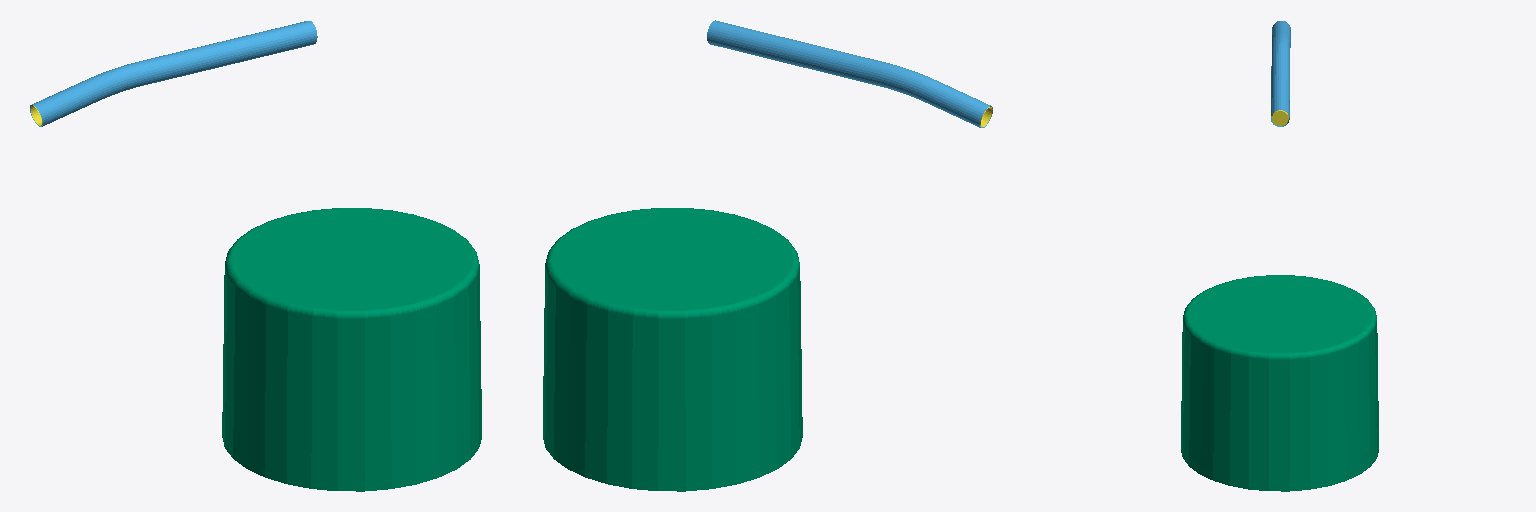
The robot description file, URDF, robot "partnet_2a9b20d21e27ab0026cca18be86a1458":
<?xml version="1.0" ?>
<robot name="partnet_2a9b20d21e27ab0026cca18be86a1458">
	<link name="base"/>
	<link name="link_0">
		<visual name="handle-1">
			<origin xyz="-0.012046458269879601 -0.17090436685072608 -0.016429255220829652"/>
			<geometry>
				<mesh filename="textured_objs/original-12.obj" scale="0.2 0.2 0.2"/>
			</geometry>
		</visual>
		<collision>
			<origin xyz="-0.012046458269879601 -0.17090436685072608 -0.016429255220829652"/>
			<geometry>
				<mesh filename="textured_objs/original-12.obj" scale="0.2 0.2 0.2"/>
			</geometry>
		</collision>
	</link>
	<joint name="joint_0" type="revolute">
		<origin xyz="0.011876358269879602 0.17090436685072608 0.017302555220829652"/>
		<axis xyz="1 0 0"/>
		<child link="link_0"/>
		<parent link="link_2"/>
		<limit lower="0.0" upper="0.5215043804959058" effort="100.0" velocity="1"/>
	</joint>
	<link name="link_1">
		<visual name="base_body-8">
			<origin xyz="0 0 0"/>
			<geometry>
				<mesh filename="textured_objs/original-29.obj" scale="0.2 0.2 0.2"/>
			</geometry>
		</visual>
		...|
		<visual name="base_body-8">
			<origin xyz="0 0 0"/>
			<geometry>
				<mesh filename="textured_objs/original-68.obj" scale="0.2 0.2 0.2"/>
			</geometry>
		</visual>
		<visual name="base_body-8">
			<origin xyz="0 0 0"/>
			<geometry>
				<mesh filename="textured_objs/original-55.obj" scale="0.2 0.2 0.2"/>
			</geometry>
		</visual>
		<visual name="base_body-8">
			<origin xyz="0 0 0"/>
			<geometry>
				<mesh filename="textured_objs/original-50.obj" scale="0.2 0.2 0.2"/>
			</geometry>
		</visual>
		<visual name="base_body-8">
			<origin xyz="0 0 0"/>
			<geometry>
				<mesh filename="textured_objs/original-6.obj" scale="0.2 0.2 0.2"/>
			</geometry>
		</visual>
		<visual name="base_body-8">
			<origin xyz="0 0 0"/>
			<geometry>
				<mesh filename="textured_objs/original-31.obj" scale="0.2 0.2 0.2"/>
			</geometry>
		</visual>
		<visual name="base_body-8">
			<origin xyz="0 0 0"/>
			<geometry>
				<mesh filename="textured_objs/original-37.obj" scale="0.2 0.2 0.2"/>
			</geometry>
		</visual>
		<visual name="base_body-8">
			<origin xyz="0 0 0"/>
			<geometry>
				<mesh filename="textured_objs/original-48.obj" scale="0.2 0.2 0.2"/>
			</geometry>
		</visual>
		<visual name="base_body-8">
			<origin xyz="0 0 0"/>
			<geometry>
				<mesh filename="textured_objs/original-15.obj" scale="0.2 0.2 0.2"/>
			</geometry>
		</visual>
		<visual name="base_body-8">
			<origin xyz="0 0 0"/>
			<geometry>
				<mesh filename="textured_objs/original-56.obj" scale="0.2 0.2 0.2"/>
			</geometry>
		</visual>
		<visual name="base_body-8">
			<origin xyz="0 0 0"/>
			<geometry>
				<mesh filename="textured_objs/original-62.obj" scale="0.2 0.2 0.2"/>
			</geometry>
		</visual>
		<visual name="base_body-8">
			<origin xyz="0 0 0"/>
			<geometry>
				<mesh filename="textured_objs/original-23.obj" scale="0.2 0.2 0.2"/>
			</geometry>
		</visual>
		<visual name="base_body-8">
			<origin xyz="0 0 0"/>
			<geometry>
				<mesh filename="textured_objs/original-66.obj" scale="0.2 0.2 0.2"/>
			</geometry>
		</visual>
		<visual name="base_body-8">
			<origin xyz="0 0 0"/>
			<geometry>
				<mesh filename="textured_objs/original-58.obj" scale="0.2 0.2 0.2"/>
			</geometry>
		</visual>
		<visual name="base_body-8">
			<origin xyz="0 0 0"/>
			<geometry>
				<mesh filename="textured_objs/original-67.obj" scale="0.2 0.2 0.2"/>
			</geometry>
		</visual>
		<visual name="base_body-8">
			<origin xyz="0 0 0"/>
			<geometry>
				<mesh filename="textured_objs/original-38.obj" scale="0.2 0.2 0.2"/>
			</geometry>
		</visual>
		<visual name="base_body-8">
			<origin xyz="0 0 0"/>
			<geometry>
				<mesh filename="textured_objs/original-68.obj" scale="0.2 0.2 0.2"/>
			</geometry>
		</visual>
		<visual name="base_body-8">
			<origin xyz="0 0 0"/>
			<geometry>
				<mesh filename="textured_objs/original-34.obj" scale="0.2 0.2 0.2"/>
			</geometry>
		</visual>
		<visual name="base_body-8">
			<origin xyz="0 0 0"/>
			<geometry>
				<mesh filename="textured_objs/original-18.obj" scale="0.2 0.2 0.2"/>
			</geometry>
		</visual>
		<visual name="base_body-8">
			<origin xyz="0 0 0"/>
			<geometry>
				<mesh filename="textured_objs/original-25.obj" scale="0.2 0.2 0.2"/>
			</geometry>
		</visual>
		<visual name="base_body-8">
			<origin xyz="0 0 0"/>
			<geometry>
				<mesh filename="textured_objs/original-17.obj" scale="0.2 0.2 0.2"/>
			</geometry>
		</visual>
		<visual name="base_body-8">
			<origin xyz="0 0 0"/>
			<geometry>
				<mesh filename="textured_objs/original-42.obj" scale="0.2 0.2 0.2"/>
			</geometry>
		</visual>
		<visual name="base_body-8">
			<origin xyz="0 0 0"/>
			<geometry>
				<mesh filename="textured_objs/original-24.obj" scale="0.2 0.2 0.2"/>
			</geometry>
		</visual>
		<visual name="base_body-8">
			<origin xyz="0 0 0"/>
			<geometry>
				<mesh filename="textured_objs/original-20.obj" scale="0.2 0.2 0.2"/>
			</geometry>
		</visual>
		<visual name="base_body-8">
			<origin xyz="0 0 0"/>
			<geometry>
				<mesh filename="textured_objs/original-32.obj" scale="0.2 0.2 0.2"/>
			</geometry>
		</visual>
		<visual name="base_body-8">
			<origin xyz="0 0 0"/>
			<geometry>
				<mesh filename="textured_objs/original-47.obj" scale="0.2 0.2 0.2"/>
			</geometry>
		</visual>
		<visual name="base_body-8">
			<origin xyz="0 0 0"/>
			<geometry>
				<mesh filename="textured_objs/original-53.obj" scale="0.2 0.2 0.2"/>
			</geometry>
		</visual>
		<visual name="base_body-8">
			<origin xyz="0 0 0"/>
			<geometry>
				<mesh filename="textured_objs/original-60.obj" scale="0.2 0.2 0.2"/>
			</geometry>
		</visual>
		<visual name="base_body-8">
			<origin xyz="0 0 0"/>
			<geometry>
				<mesh filename="textured_objs/original-19.obj" scale="0.2 0.2 0.2"/>
			</geometry>
		</visual>
		<visual name="base_body-8">
			<origin xyz="0 0 0"/>
			<geometry>
				<mesh filename="textured_objs/original-40.obj" scale="0.2 0.2 0.2"/>
			</geometry>
		</visual>
		<visual name="base_body-8">
			<origin xyz="0 0 0"/>
			<geometry>
				<mesh filename="textured_objs/original-46.obj" scale="0.2 0.2 0.2"/>
			</geometry>
		</visual>
		<visual name="base_body-8">
			<origin xyz="0 0 0"/>
			<geometry>
				<mesh filename="textured_objs/original-57.obj" scale="0.2 0.2 0.2"/>
			</geometry>
		</visual>
		<collision>
			<origin xyz="0 0 0"/>
			<geometry>
				<mesh filename="textured_objs/original-29.obj" scale="0.2 0.2 0.2"/>
			</geometry>
		</collision>
		<collision>
			<origin xyz="0 0 0"/>
			<geometry>
				<mesh filename="textured_objs/original-29.obj" scale="0.2 0.2 0.2"/>
			</geometry>
		</collision>
		...|
		<collision>
			<origin xyz="0 0 0"/>
			<geometry>
				<mesh filename="textured_objs/original-68.obj" scale="0.2 0.2 0.2"/>
			</geometry>
		</collision>
	</link>
	<joint name="joint_1" type="fixed">
		<origin rpy="1.570796326794897 0 -1.570796326794897" xyz="0 0 0"/>
		<child link="link_1"/>
		<parent link="base"/>
	</joint>
	<link name="link_2">
		<visual name="head-5">
			<origin xyz="-0.00017009999999999943 0 0.0008732999999999998"/>
			<geometry>
				<mesh filename="textured_objs/original-11.obj" scale="0.2 0.2 0.2"/>
			</geometry>
		</visual>
		<collision>
			<origin xyz="-0.00017009999999999943 0 0.0008732999999999998"/>
			<geometry>
				<mesh filename="textured_objs/original-8.obj" scale="0.2 0.2 0.2"/>
			</geometry>
		</collision>
	</link>
	<joint name="joint_2" type="fixed">
		<origin xyz="0.0 0 0.0"/>
		<!-- <axis xyz="0 1 0"/> -->
		<child link="link_2"/>
		<parent link="link_2_helper"/>
	</joint>
	<link name="link_2_helper"/>
	<joint name="joint_3" type="fixed">
		<origin xyz="0.00017009999999999943 0 -0.0008732999999999998"/>
		<!-- <axis xyz="0 1 0"/> -->
		<child link="link_2_helper"/>
		<parent link="link_1"/>
		<!-- <limit lower="0" upper="0.12" effort="100.0" velocity="1"/> -->
	</joint>
</robot>

--- Facts derived from the render (not from the file) ---
The picture shows the robot from 3 angles, left to right: view 1: azimuth 30°, elevation 25°; view 2: azimuth 150°, elevation 25°; view 3: azimuth 270°, elevation 25°; orthographic projection.
Model partnet_2a9b20d21e27ab0026cca18be86a1458 with 5 links and 4 joints (1 revolute, 3 fixed), rooted at base, posed all joints at 0.
Links seen in each view (by area): view 1: link_1, link_0; view 2: link_1, link_0; view 3: link_1, link_0.
Boxes of the visible links, x1=… form: link_1: x1=222, y1=208, x2=481, y2=491; link_0: x1=30, y1=21, x2=317, y2=126; link_1: x1=543, y1=208, x2=802, y2=491; link_0: x1=707, y1=20, x2=992, y2=127; link_1: x1=1181, y1=275, x2=1378, y2=491; link_0: x1=1271, y1=21, x2=1290, y2=126.
Bounding box of the posed robot: 0.1142 × 0.0599 × 0.1081 m (x, y, z).
Meshes: 33 distinct files referenced, 3 mesh visuals loaded (3 OBJ); not drawn: 31 (reference not matched to a file when rendering).